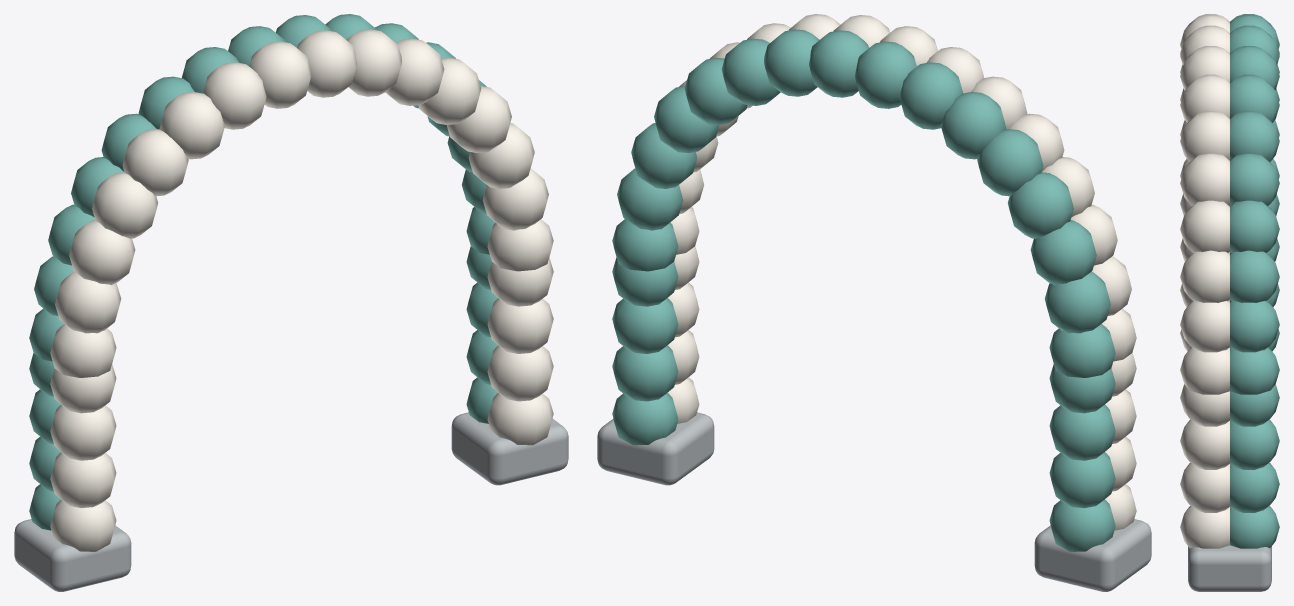
The model's file is celebratory_arch_teal.glb.
3 renders of one model, left to right at view 1: azimuth 30°, elevation 25°; view 2: azimuth 150°, elevation 25°; view 3: azimuth 270°, elevation 25°, orthographic. The views are drawn at different scales.
Parts seen in each view (by area): view 1: celebratory_arch_teal_mesh; view 2: celebratory_arch_teal_mesh; view 3: celebratory_arch_teal_mesh.
Part boxes in pixels (x1,y1,x2,y2): celebratory_arch_teal_mesh: [14, 14, 568, 591]; celebratory_arch_teal_mesh: [597, 14, 1151, 591]; celebratory_arch_teal_mesh: [1180, 14, 1279, 591].
Size of the model in its own units: 1.94 by 1.75 by 0.3564.
